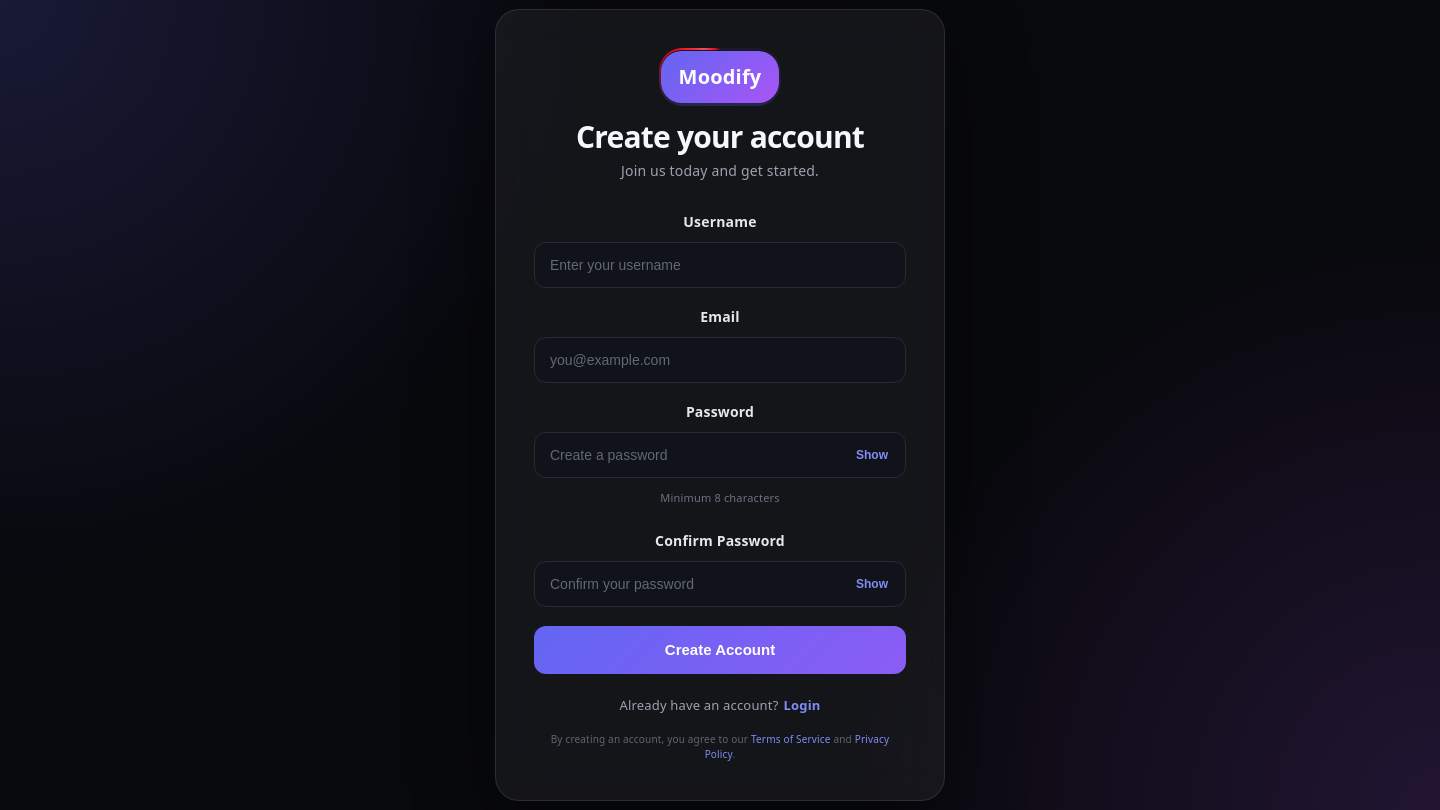
Test: Register page › renders an API error without navigating
This screenshot has width=1440, height=810.
Type "new-member" into the field labelled "Username" at (720, 265), box [534,242,906,288]
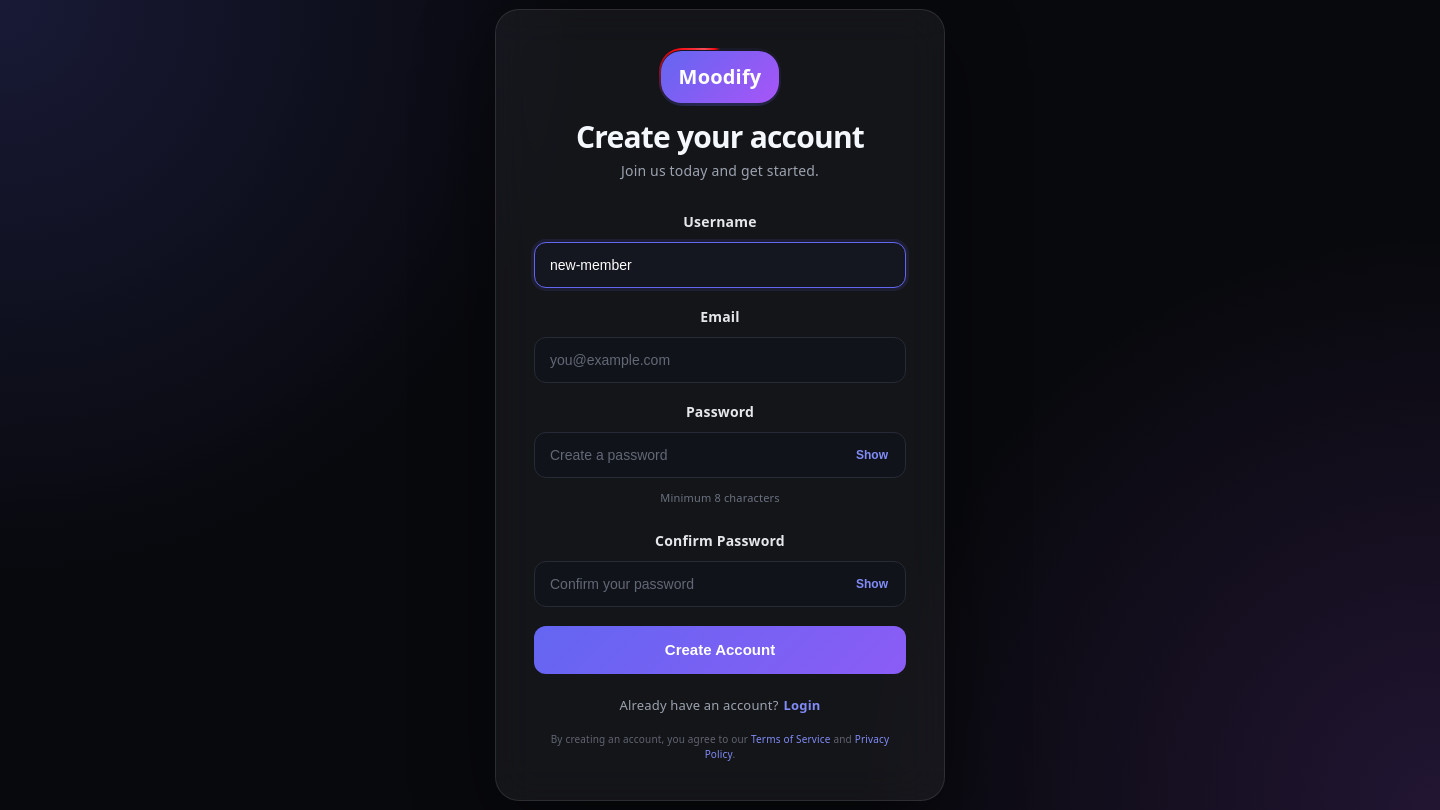
Type "new@example.com" into the field labelled "Email" at (720, 360), box [534,337,906,383]
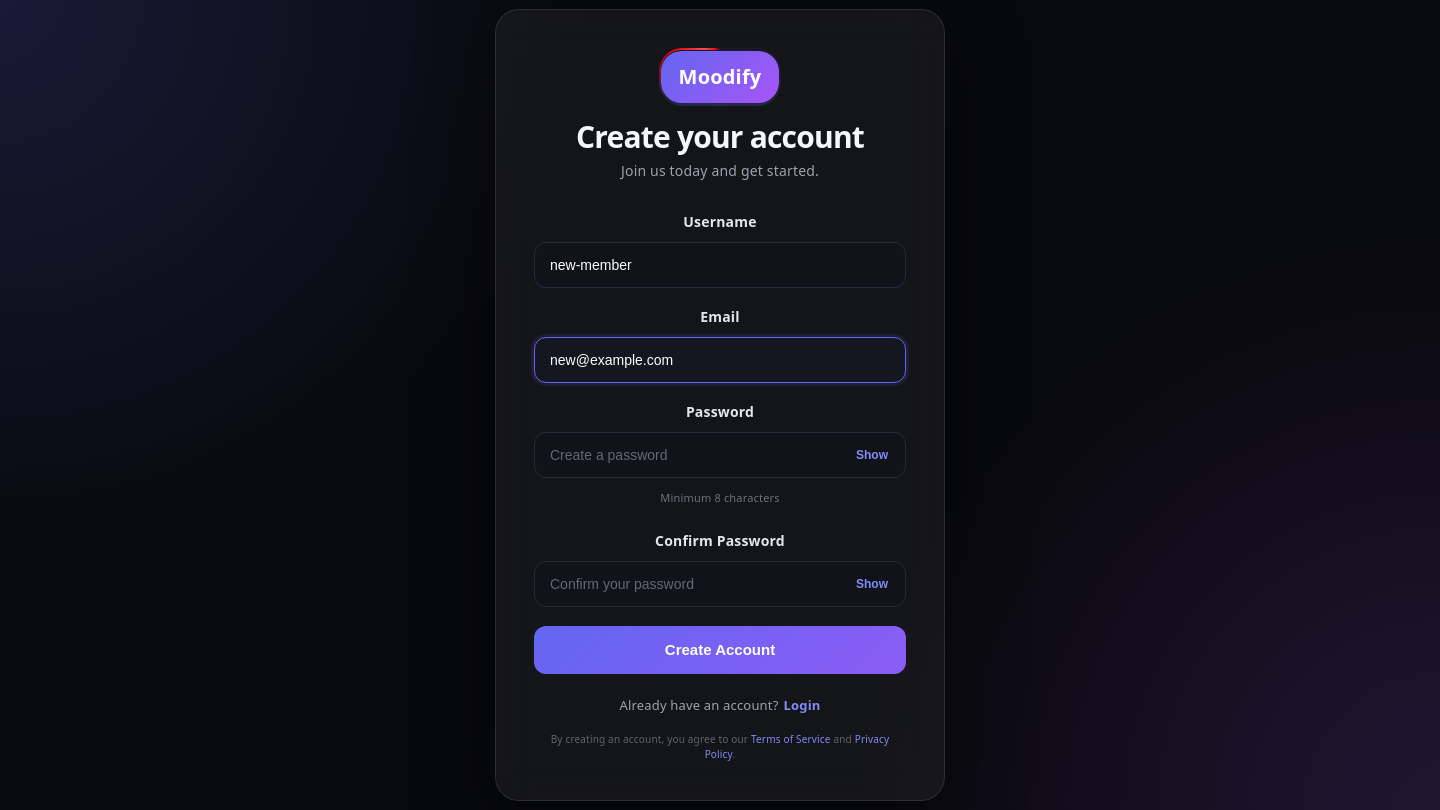
Type "safe-password" into the password field labelled "Password" at (720, 455), box [534,432,906,478]
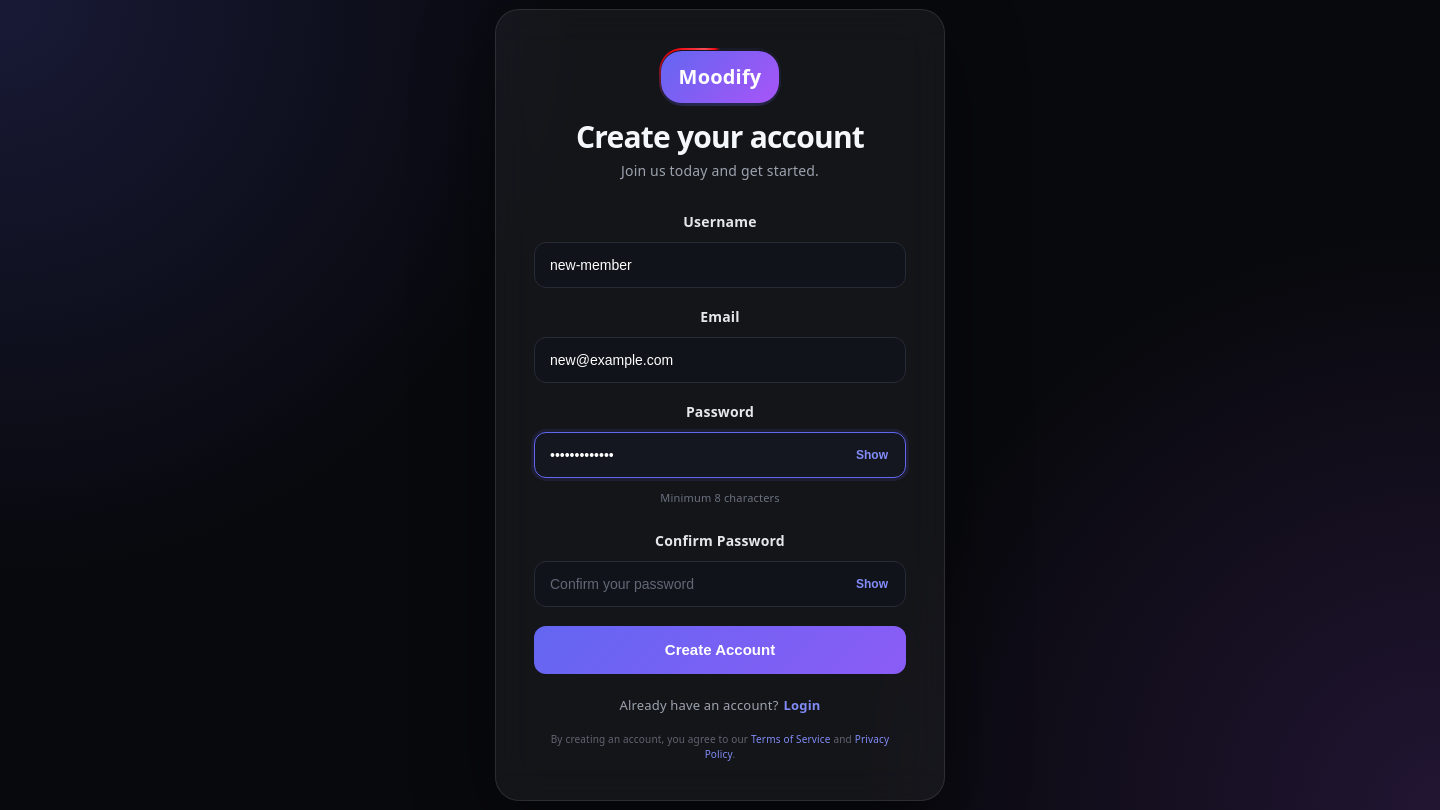
Type "safe-password" into the password field labelled "Confirm Password" at (720, 584), box [534,561,906,607]
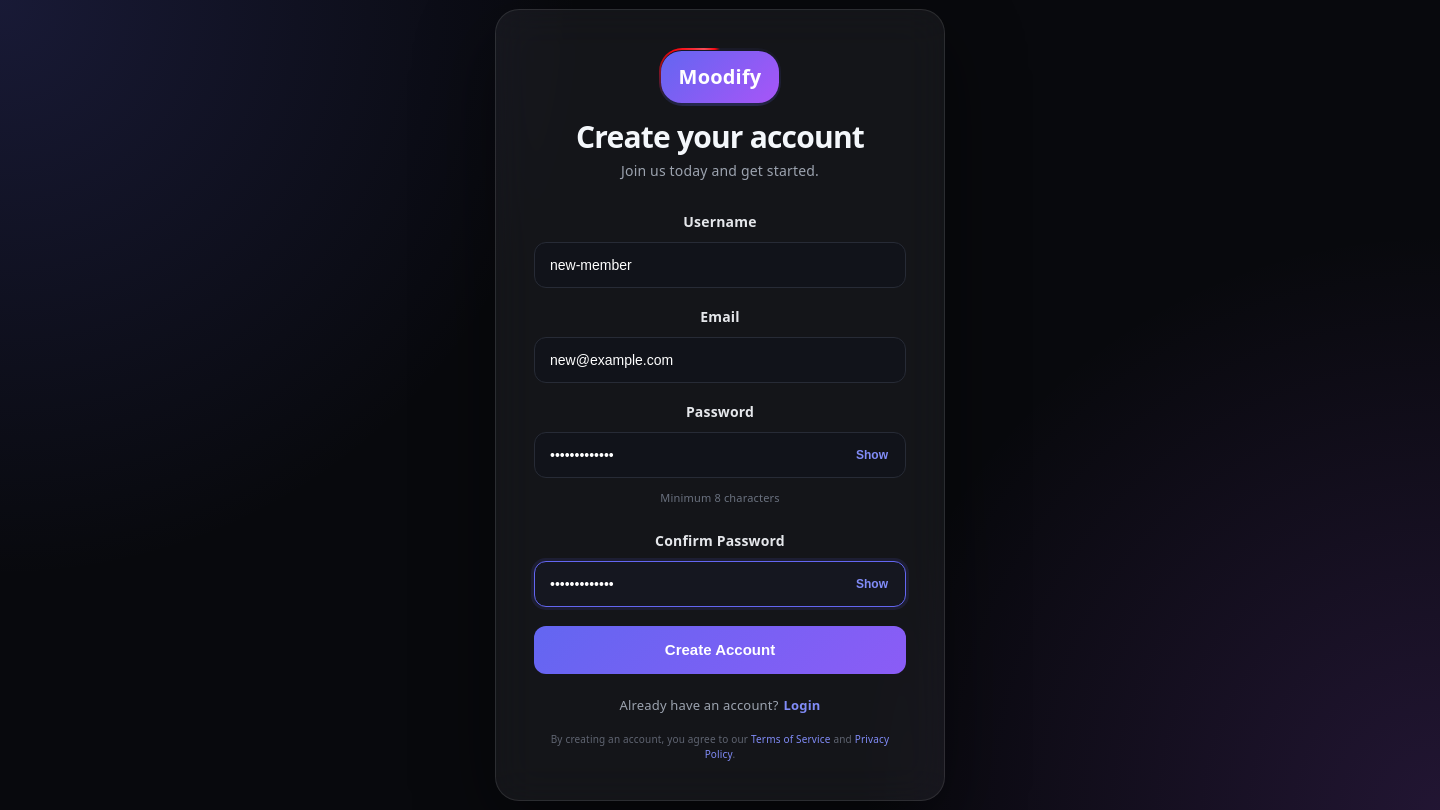
Click the button "Create Account" at (720, 650), box [534,626,906,674]
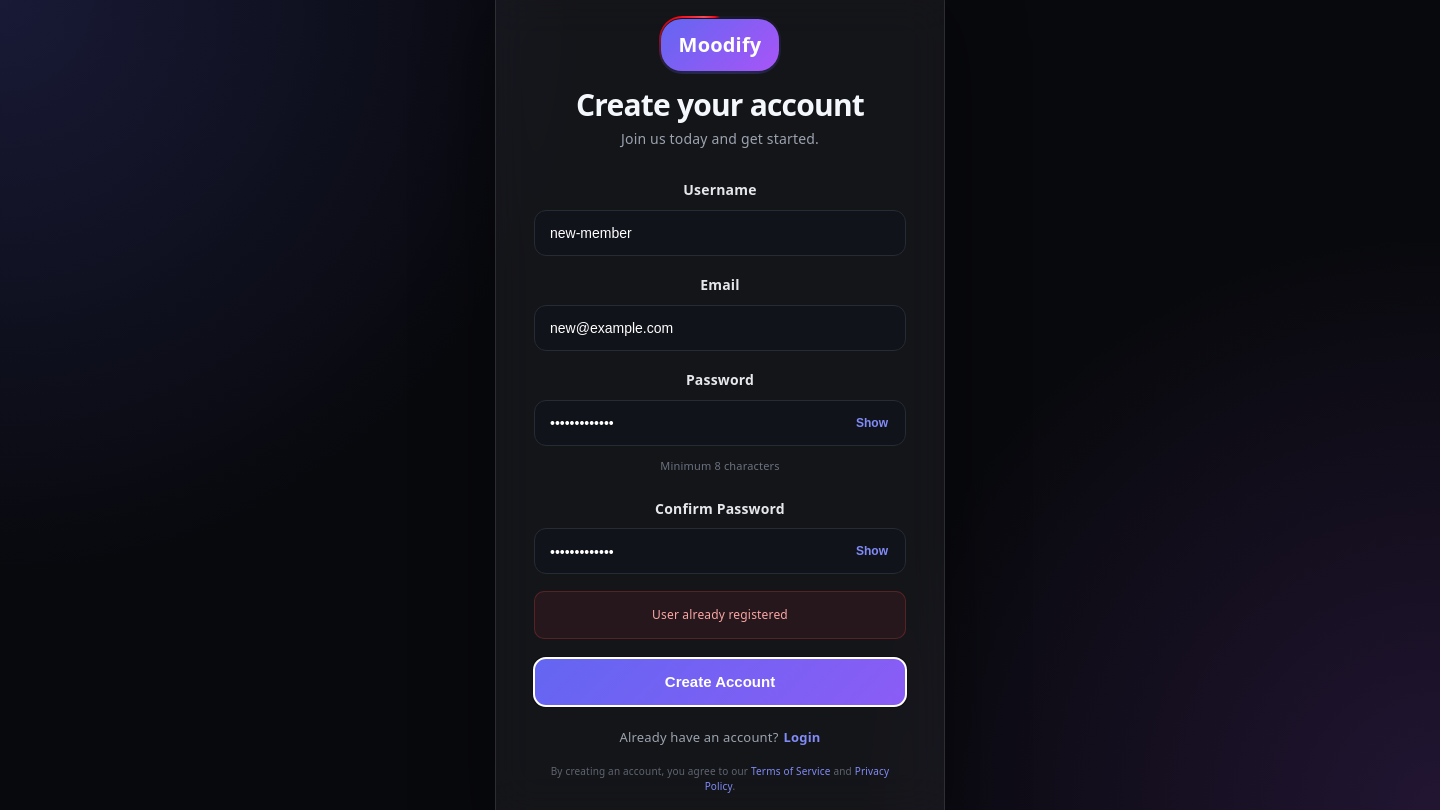
expect the message reads "User already registered": met, box [652,606,788,623]
